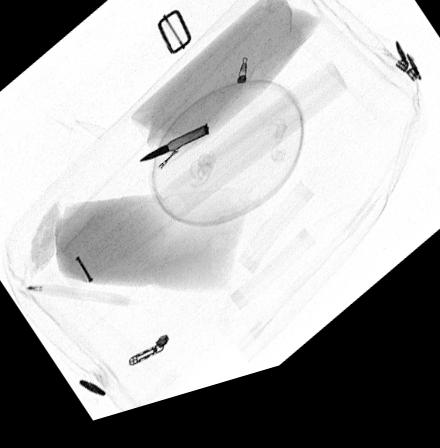Bullet: (137, 134, 208, 169)
